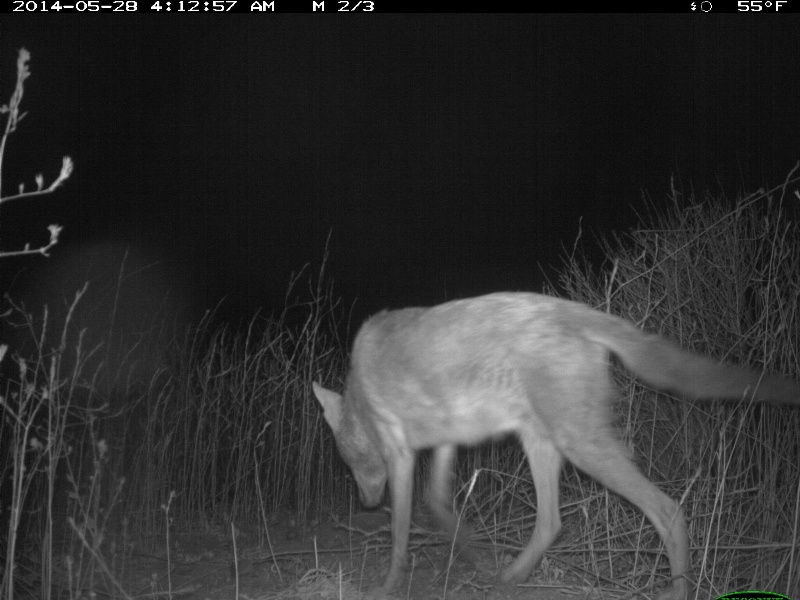coyote: (307, 290, 800, 599)
